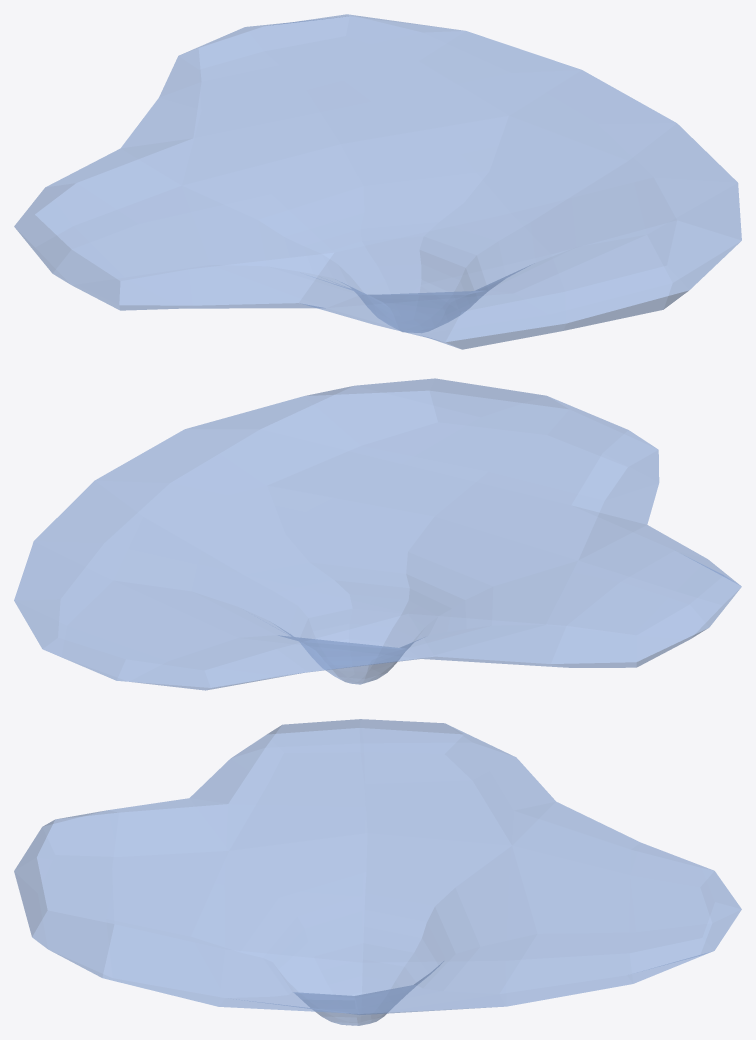
Rendered from gotera.fbx.
The picture shows the model from 3 angles, top to bottom: view 1: azimuth 30°, elevation 25°; view 2: azimuth 150°, elevation 25°; view 3: azimuth 270°, elevation 25°; orthographic projection. The views are drawn at different scales.
Parts seen in each view (by area): view 1: Gotera; view 2: Gotera; view 3: Gotera.
Boxes of the visible parts, left/top/right/bottom form: Gotera: left=14, top=14, right=741, bottom=349; Gotera: left=14, top=378, right=741, bottom=690; Gotera: left=14, top=719, right=741, bottom=1025.
Size of the model in its own units: 386 by 101 by 418.
